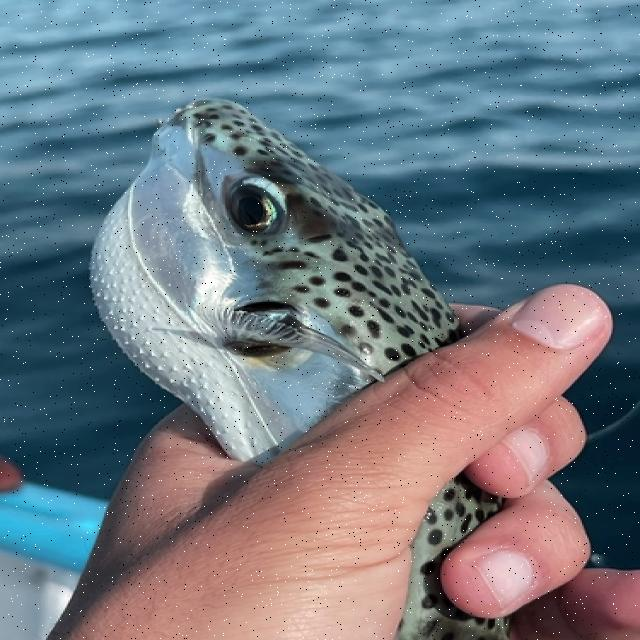Balik: (93, 100, 457, 462)
